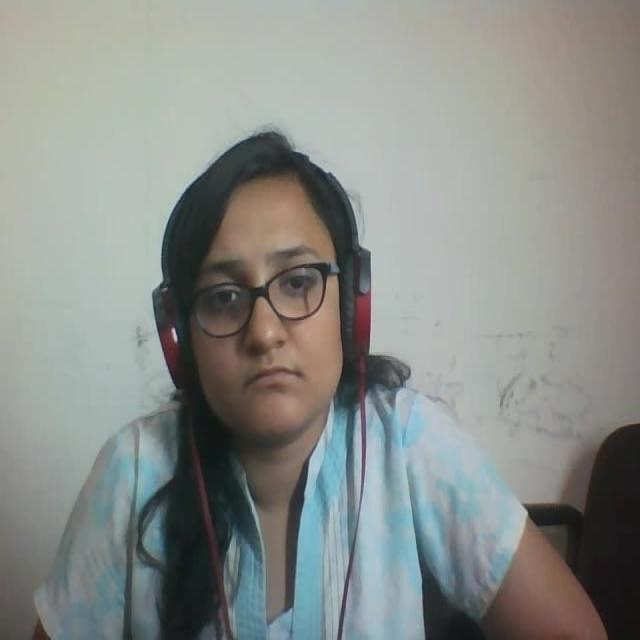Engaged: (130, 116, 432, 457)
